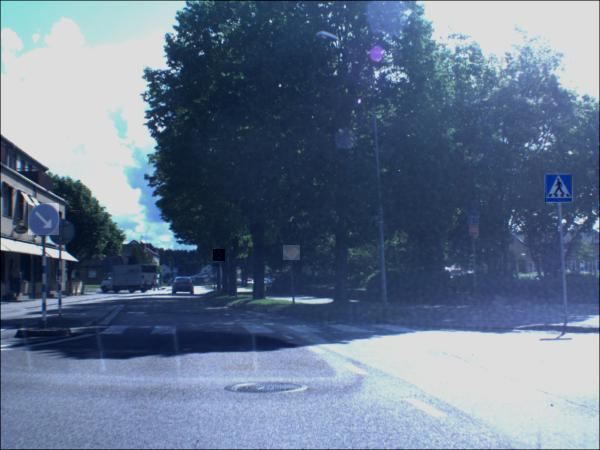50_SIGN: (214, 250, 227, 263)
PASS_RIGHT_SIDE: (30, 204, 62, 237)
PEDESTRIAN_CROSSING: (546, 175, 574, 204), (214, 264, 221, 272)
PRIORITY_ROAD: (284, 246, 302, 262)
